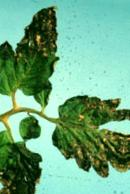Tomato Septoria leaf spot: (45, 78, 130, 189), (0, 1, 74, 111), (0, 124, 61, 193)
